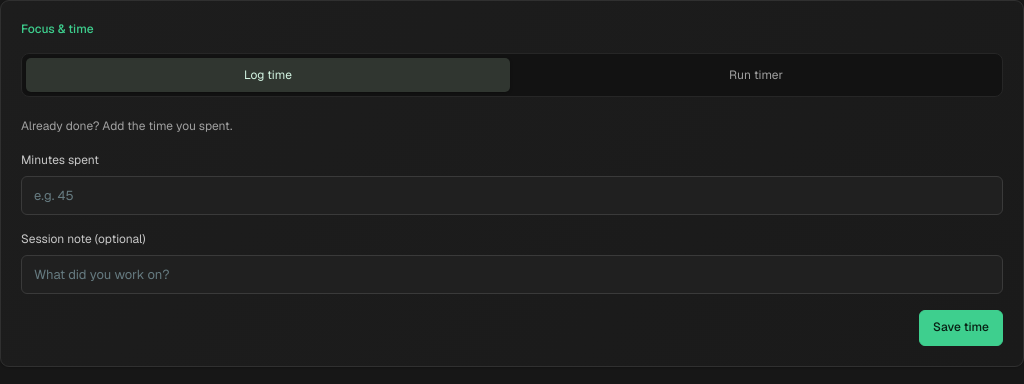
Test: keeps controls usable after a network failure
What coordinates should you click on to do the following:
click the button "Run timer"
I would click on:
 (756, 75)
Its box is [514, 58, 998, 92].
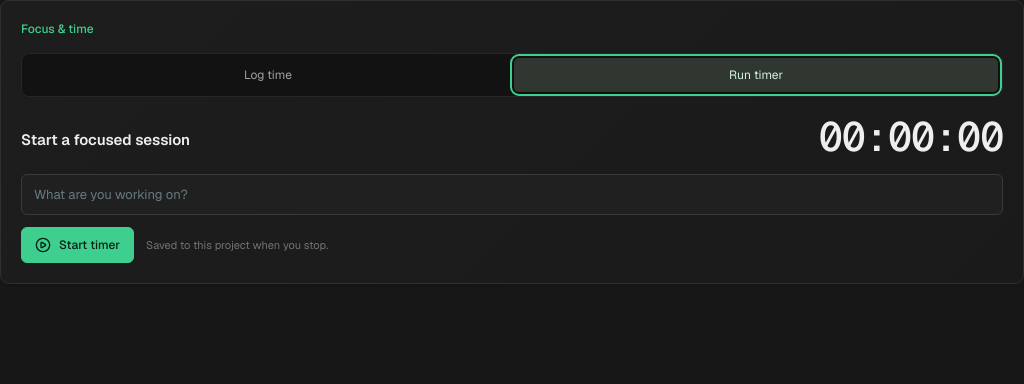
What coordinates should you click on to do the following:
click the button "Start timer"
I would click on:
 (78, 246)
Its box is [21, 228, 134, 264].
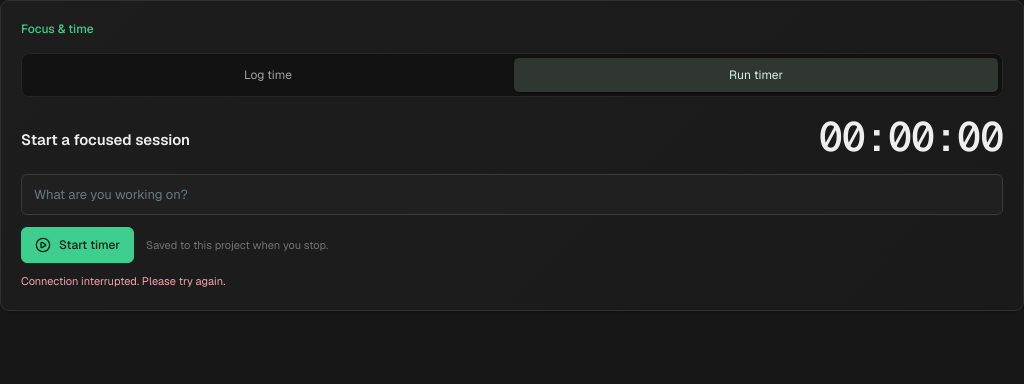
Now the message shows "Connection interrupted", box [21, 274, 225, 288]
